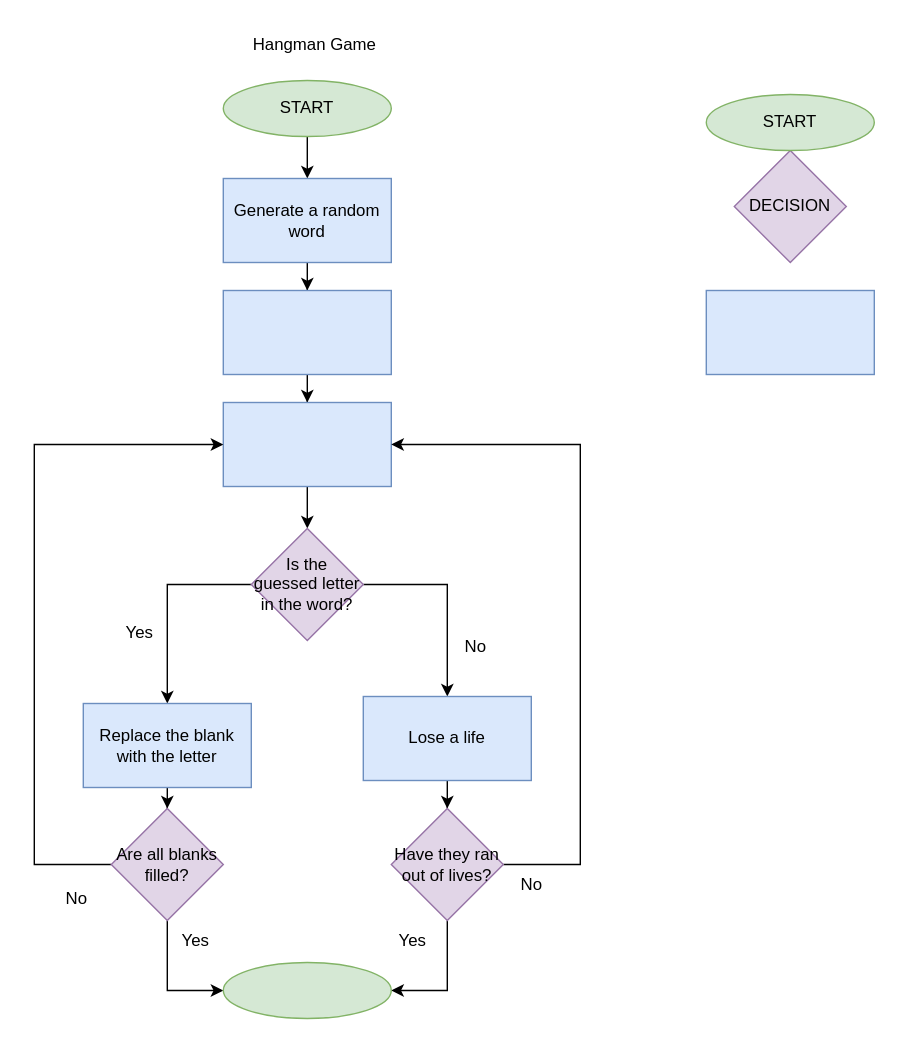
Image size: 899x1043. Some labels were removed from this diagram. The box of each missing label's shape, as (x1, y1, x2, y2) in pixels:
Ask user to input a letter: (222, 401, 391, 486)
Generate as many blank spaces as there are in a word: (222, 289, 391, 374)
PROCESS: (705, 289, 874, 374)
STOP: (222, 961, 391, 1018)
